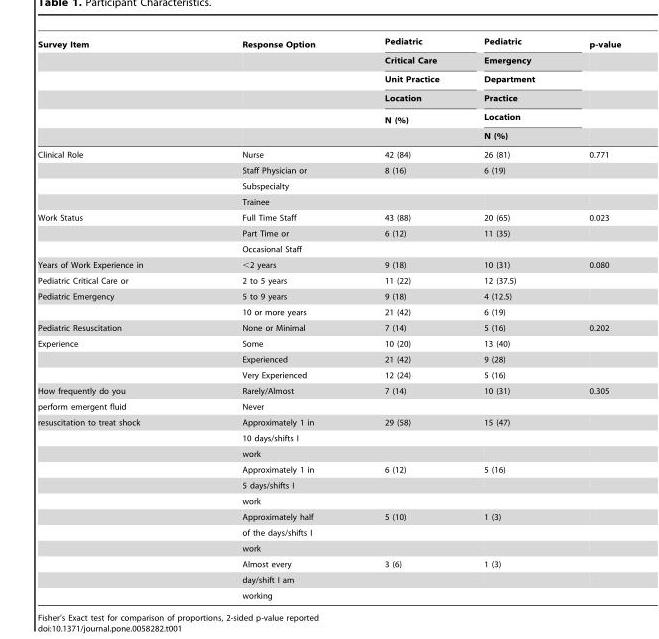table: (37, 36, 620, 599)
table column: (192, 36, 349, 599), (37, 36, 192, 599), (349, 36, 460, 599), (460, 36, 561, 599), (561, 36, 620, 599)
table column header: (37, 36, 620, 145)
table row: (37, 107, 620, 127), (37, 69, 620, 88), (37, 88, 620, 107), (37, 127, 620, 145), (37, 52, 620, 69), (37, 145, 620, 162), (37, 36, 620, 52), (37, 162, 620, 178), (37, 193, 620, 209), (37, 209, 620, 225), (37, 225, 620, 241), (37, 256, 620, 272), (37, 272, 620, 288), (37, 288, 620, 304), (37, 319, 620, 335), (37, 335, 620, 351), (37, 351, 620, 367), (37, 382, 620, 398), (37, 398, 620, 414), (37, 414, 620, 430), (37, 445, 620, 461), (37, 461, 620, 477), (37, 477, 620, 493), (37, 508, 620, 524), (37, 524, 620, 540), (37, 540, 620, 556), (37, 571, 620, 587), (37, 178, 620, 193), (37, 241, 620, 256), (37, 304, 620, 319), (37, 367, 620, 382), (37, 430, 620, 445), (37, 493, 620, 508), (37, 556, 620, 571), (37, 587, 620, 599)
table spanning cell: (37, 414, 192, 599), (192, 36, 349, 145), (37, 36, 192, 145), (349, 36, 460, 145), (460, 36, 561, 145), (37, 145, 192, 209), (37, 209, 192, 256), (37, 335, 192, 382), (561, 36, 620, 145), (37, 288, 192, 319)
